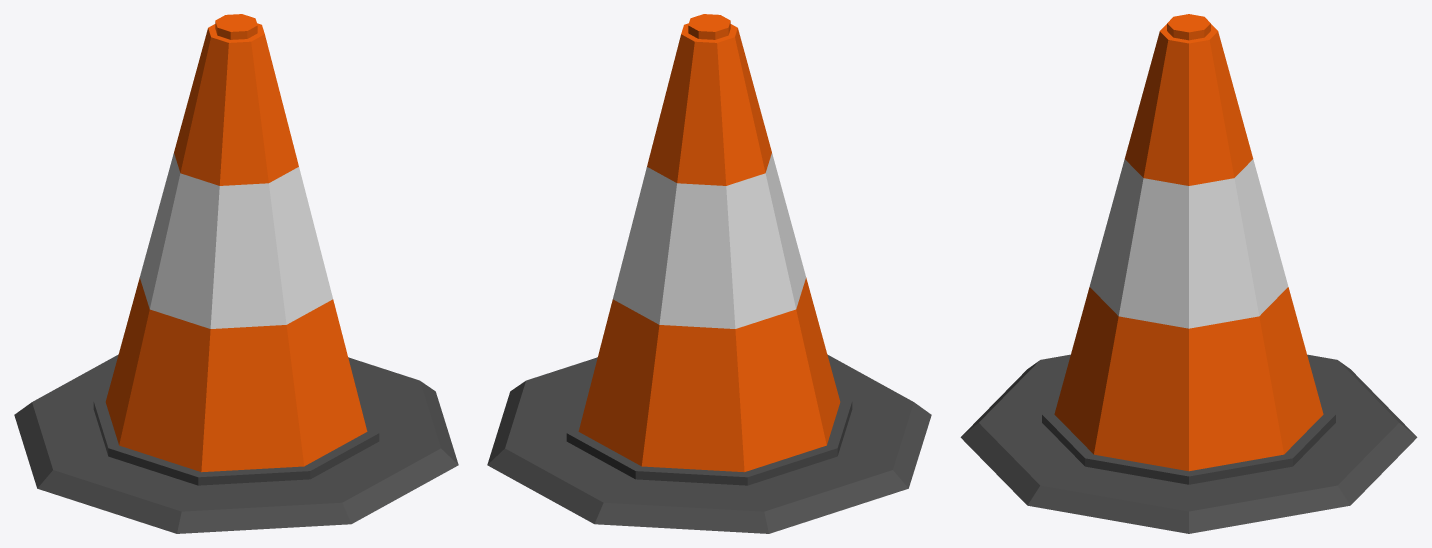
File: active.Cone-03.glb
3 renders of one model, left to right at view 1: azimuth 30°, elevation 25°; view 2: azimuth 150°, elevation 25°; view 3: azimuth 270°, elevation 25°, orthographic.
Parts seen in each view (by area): view 1: active.Cone 03; view 2: active.Cone 03; view 3: active.Cone 03.
Boxes of the visible parts, x1,y1,x2,y2 form: active.Cone 03: (14, 14, 458, 533); active.Cone 03: (487, 14, 931, 533); active.Cone 03: (960, 14, 1417, 533).
Bounding box in the file's own units: 0.33 × 0.33 × 0.33.
